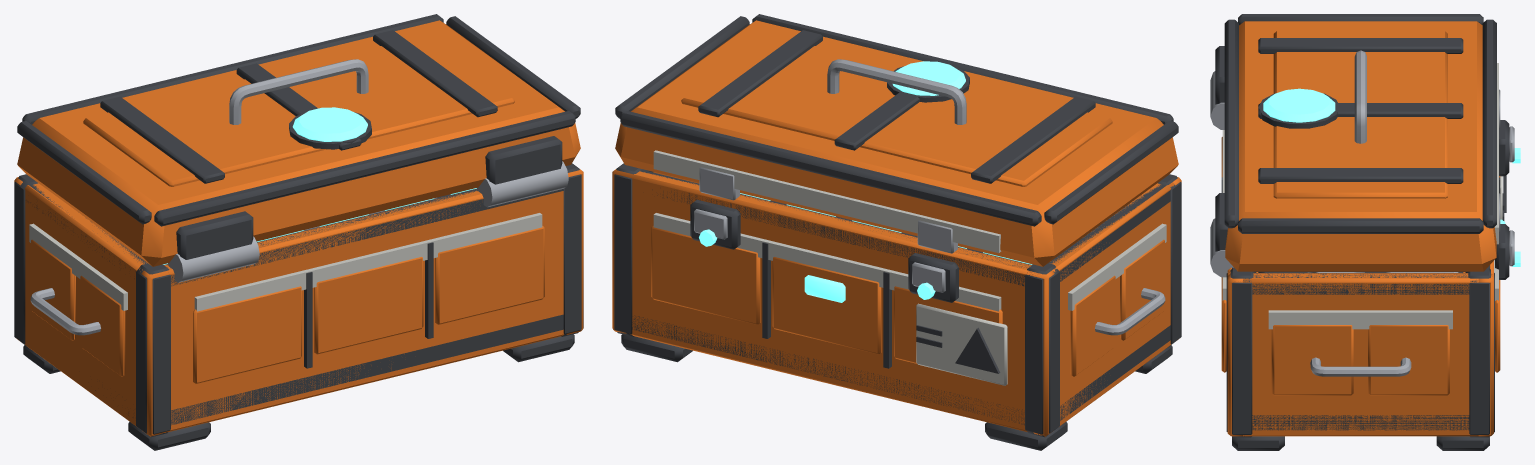
File: supply_container_a.glb
3 renders of one model, left to right at view 1: azimuth 30°, elevation 25°; view 2: azimuth 150°, elevation 25°; view 3: azimuth 270°, elevation 25°, orthographic. The views are drawn at different scales.
Visible parts, largest first — view 1: Body, Lid; view 2: Body, Lid, StatusLight; view 3: Lid, Body.
Part boxes in pixels (x1,y1,x2,y2): Body: (14, 163, 583, 450); Lid: (17, 14, 580, 282); Body: (612, 163, 1181, 450); Lid: (615, 14, 1178, 266); StatusLight: (804, 275, 845, 302); Lid: (1210, 14, 1500, 277); Body: (1221, 120, 1520, 450).
Bounding box in the file's own units: 2.73 × 1.48 × 1.51.
